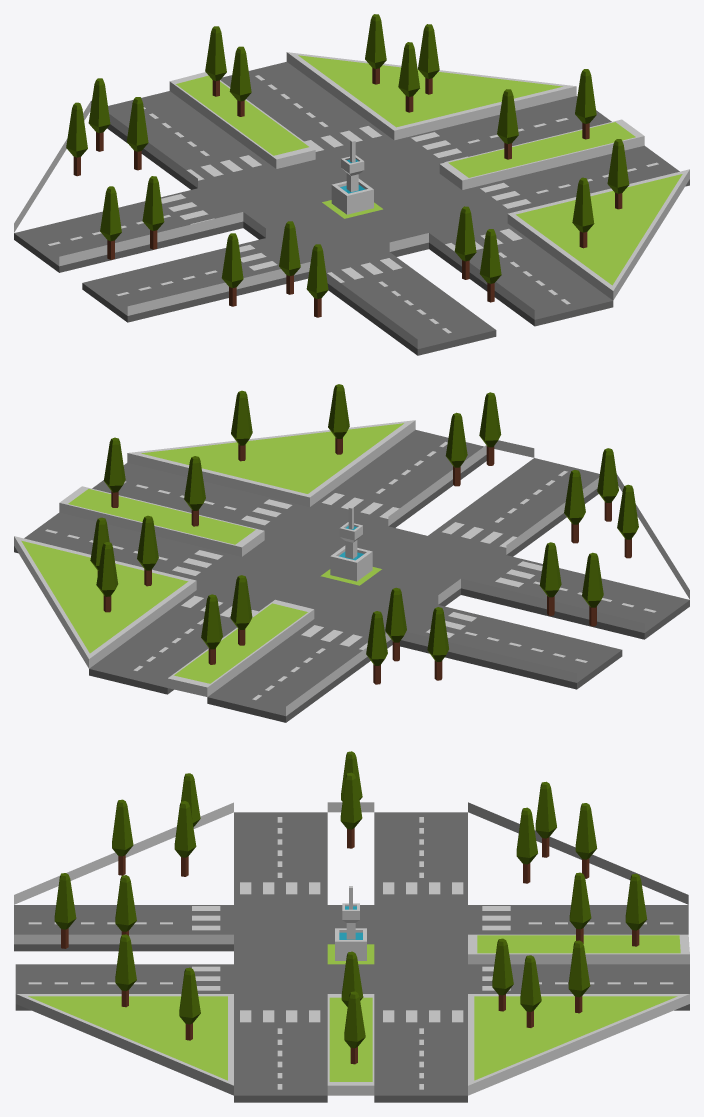
File: intersection.glb
3 renders of one model, top to bottom at view 1: azimuth 30°, elevation 25°; view 2: azimuth 150°, elevation 25°; view 3: azimuth 270°, elevation 25°, orthographic. The views are drawn at different scales.
Visible parts, largest first — view 1: Cube_Cube.001, Cube_Cube.001_94e8d6, Cube_Cube.001_a07539, Cylinder.003_723ddc, Cylinder.011_7c506f, Cylinder.014_2abc1c, Cylinder.007_a57138, Cylinder.006_247d91, Cylinder.018_54a575, Cylinder.012_fb72ca, Cylinder.009_f354b6, Cylinder.002_14dcb9 (+11 smaller); view 2: Cube_Cube.001, Cube_Cube.001_a07539, Cube_Cube.001_94e8d6, Cylinder.014_2abc1c, Cylinder.013_ed5779, Cylinder.004_be9d20, Cylinder.018_54a575, Cylinder_82e4f3, Cylinder.016, Cylinder.005_19279e, Cylinder.017_b9c09e, Cylinder.015_9893ac (+11 smaller); view 3: Cube_Cube.001, Cube_Cube.001_a07539, Cube_Cube.001_94e8d6, Cylinder.010_3f9f7e, Cylinder.013_ed5779, Cylinder.006_247d91, Cylinder.008_f36ed1, Cylinder.005_19279e, Cylinder.004_be9d20, Cylinder.003_723ddc, Cylinder_82e4f3, Cylinder.007_a57138 (+13 smaller).
Part boxes in pixels (box(x1,y1,x2,y2)): Cube_Cube.001: box(14, 61, 689, 355); Cube_Cube.001_94e8d6: box(14, 52, 689, 348); Cube_Cube.001_a07539: box(176, 55, 682, 285); Cylinder.003_723ddc: box(229, 46, 251, 101); Cylinder.011_7c506f: box(221, 233, 243, 288); Cylinder.014_2abc1c: box(454, 206, 476, 261); Cylinder.007_a57138: box(66, 102, 87, 157); Cylinder.006_247d91: box(88, 78, 110, 133); Cylinder.018_54a575: box(575, 69, 596, 123); Cylinder.012_fb72ca: box(306, 244, 328, 298); Cylinder.009_f354b6: box(100, 186, 121, 241); Cylinder.002_14dcb9: box(365, 14, 386, 68); Cube_Cube.001: box(14, 430, 689, 722); Cube_Cube.001_a07539: box(21, 423, 403, 683); Cube_Cube.001_94e8d6: box(14, 420, 689, 715); Cylinder.014_2abc1c: box(445, 412, 467, 467); Cylinder.013_ed5779: box(479, 392, 501, 447); Cylinder.004_be9d20: box(201, 594, 222, 649); Cylinder.018_54a575: box(104, 437, 125, 492); Cylinder_82e4f3: box(137, 515, 158, 570); Cylinder.016: box(231, 390, 252, 445); Cylinder.005_19279e: box(385, 587, 406, 642); Cylinder.017_b9c09e: box(184, 456, 205, 510); Cylinder.015_9893ac: box(328, 384, 349, 438); Cube_Cube.001: box(14, 812, 689, 1102); Cube_Cube.001_a07539: box(28, 935, 680, 1081); Cube_Cube.001_94e8d6: box(14, 802, 689, 1095); Cylinder.010_3f9f7e: box(174, 801, 196, 857); Cylinder.013_ed5779: box(54, 873, 76, 929); Cylinder.006_247d91: box(575, 803, 597, 859); Cylinder.008_f36ed1: box(340, 772, 362, 829); Cylinder.005_19279e: box(516, 807, 537, 864); Cylinder.004_be9d20: box(625, 873, 647, 930); Cylinder.003_723ddc: box(569, 872, 591, 929); Cylinder_82e4f3: box(492, 938, 513, 995); Cylinder.007_a57138: box(535, 781, 556, 838).
Size of the model in its own units: 1.41 by 0.2 by 1.42.
